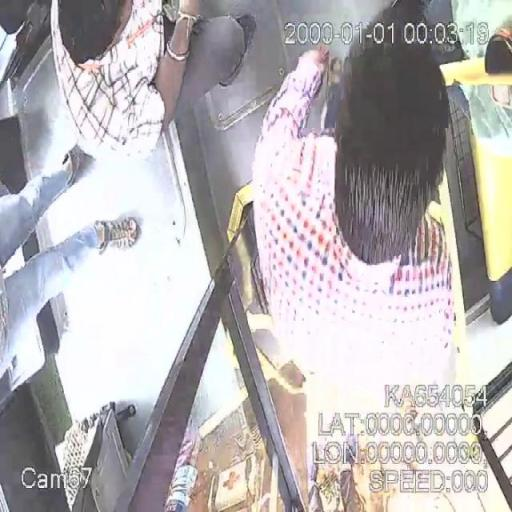persona: (249, 2, 467, 510), (250, 2, 466, 384), (1, 145, 141, 393), (50, 0, 251, 156)
